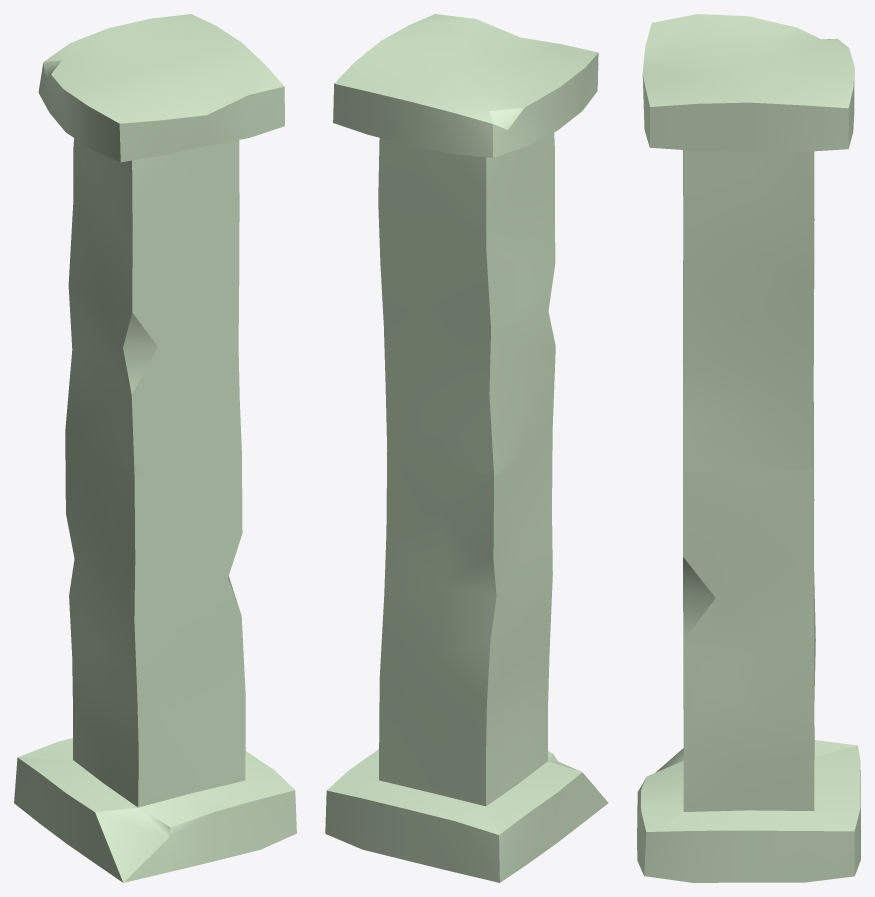
Rendered from Column1.glb.
3 renders of one model, left to right at view 1: azimuth 30°, elevation 25°; view 2: azimuth 150°, elevation 25°; view 3: azimuth 270°, elevation 25°, orthographic. The views are drawn at different scales.
Parts seen in each view (by area): view 1: Box002; view 2: Box002; view 3: Box002.
Part boxes in pixels (x1,y1,x2,y2): Box002: (14,14,296,882); Box002: (325,14,608,882); Box002: (637,14,860,882).
Bounding box in the file's own units: 0.4433 × 1.7 × 0.4457.
